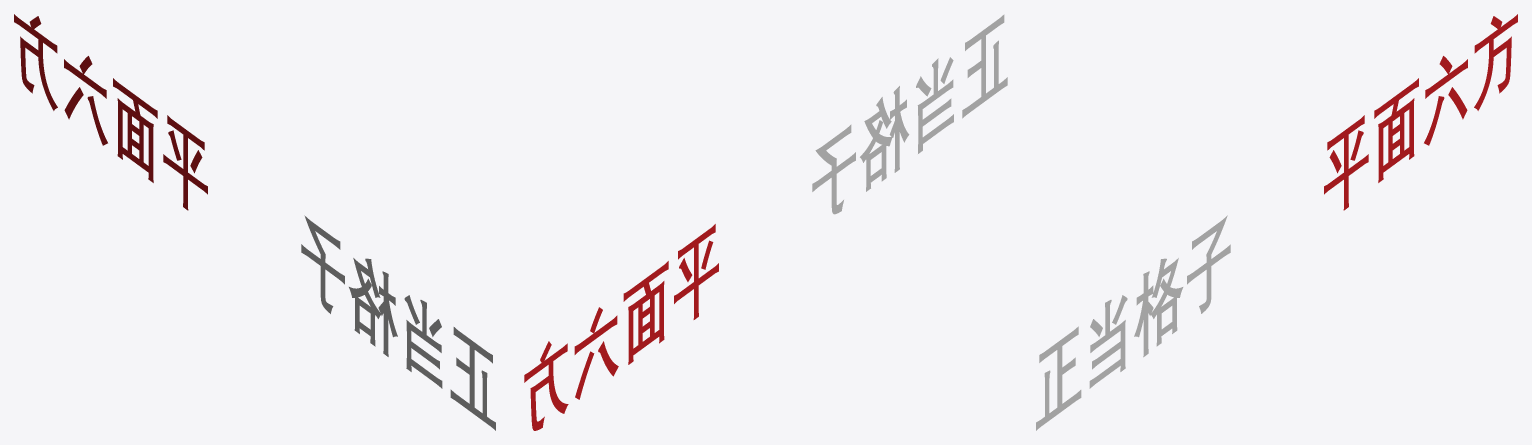
Rendered from z正当格子.fbx.
3 renders of one model, left to right at view 1: azimuth 30°, elevation 25°; view 2: azimuth 150°, elevation 25°; view 3: azimuth 330°, elevation 25°, orthographic.
Parts seen in each view (by area): view 1: Text, Text.001; view 2: Text, Text.001; view 3: Text, Text.001.
Boxes of the visible parts, x1=… form: Text: x1=301, y1=215, x2=495, y2=430; Text.001: x1=14, y1=14, x2=207, y2=210; Text: x1=812, y1=14, x2=1007, y2=214; Text.001: x1=524, y1=224, x2=718, y2=430; Text: x1=1036, y1=215, x2=1230, y2=430; Text.001: x1=1324, y1=14, x2=1517, y2=210.
Bounding box in the file's own units: 0.0739 × 77.46 × 790.
